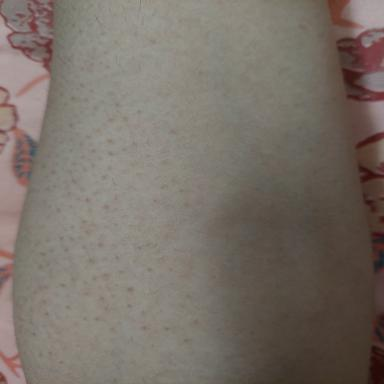normal skin: (14, 0, 372, 384)
